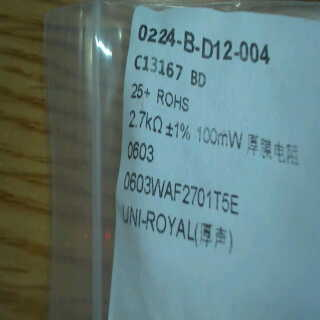2.7kR: (127, 107, 162, 137)
